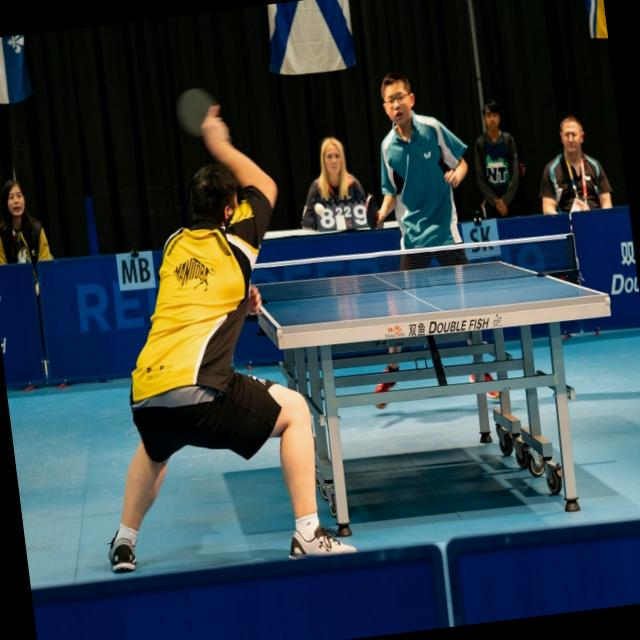TT Net: (248, 228, 580, 309)
TT Racket: (162, 75, 230, 149), (357, 186, 388, 237)
TT Table: (246, 246, 606, 338)
